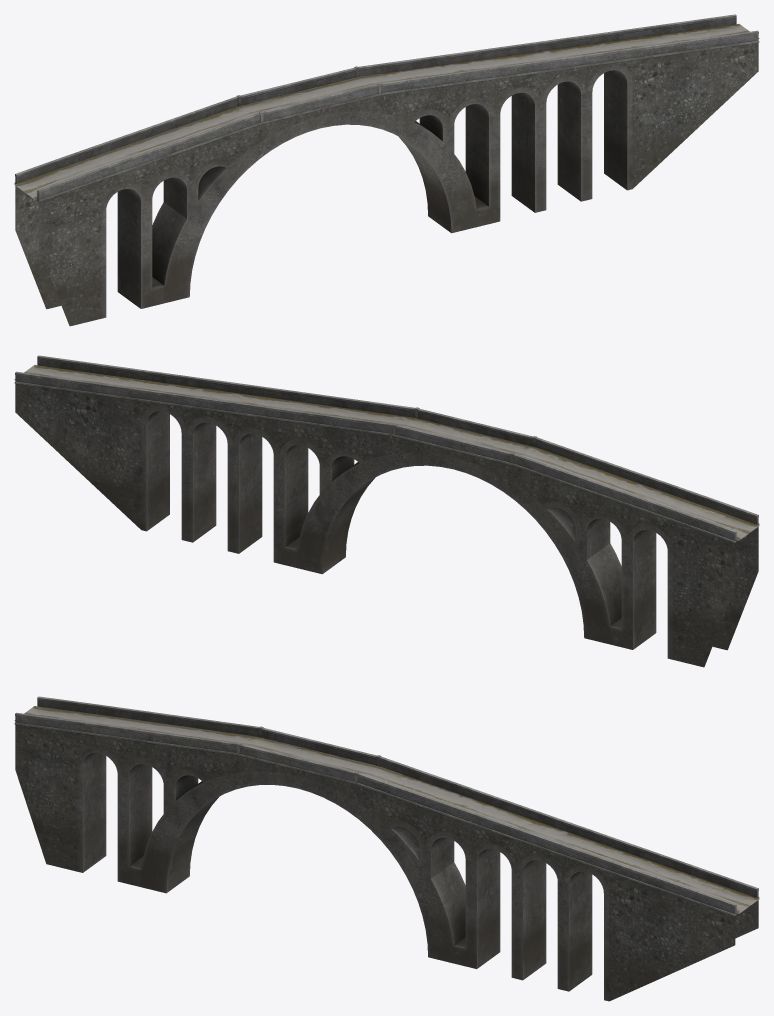
File: stone_bridge.glb
3 views of the same model, one above another, from view 1: azimuth 30°, elevation 25°; view 2: azimuth 150°, elevation 25°; view 3: azimuth 330°, elevation 25° (orthographic).
Visible parts, largest first — view 1: Object_4; view 2: Object_4; view 3: Object_4.
Boxes of the visible parts, <box> form: Object_4: <box>14,14,759,326</box>; Object_4: <box>14,355,759,667</box>; Object_4: <box>14,696,759,1001</box>.
Bounding box in the file's own units: 71.82 × 15.79 × 4.26.
Materials: 1 (1 with a texture image).
